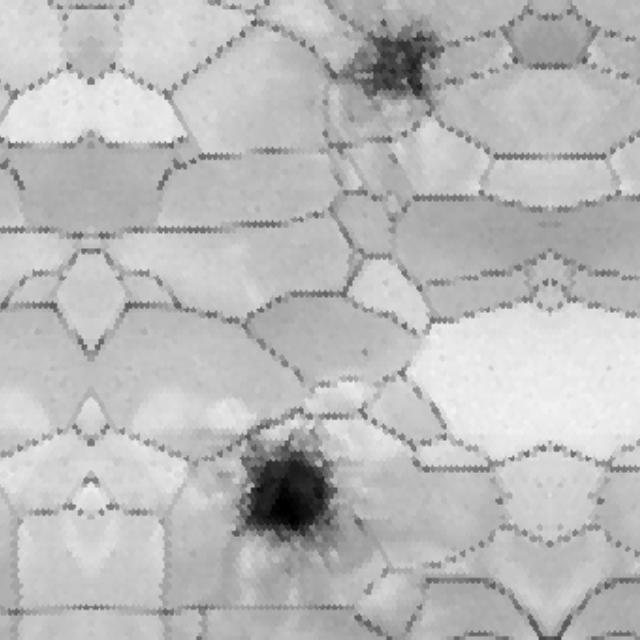good_void: (223, 417, 351, 566), (321, 6, 450, 117), (351, 509, 368, 536), (492, 491, 513, 509), (586, 491, 606, 509), (359, 347, 374, 359)
